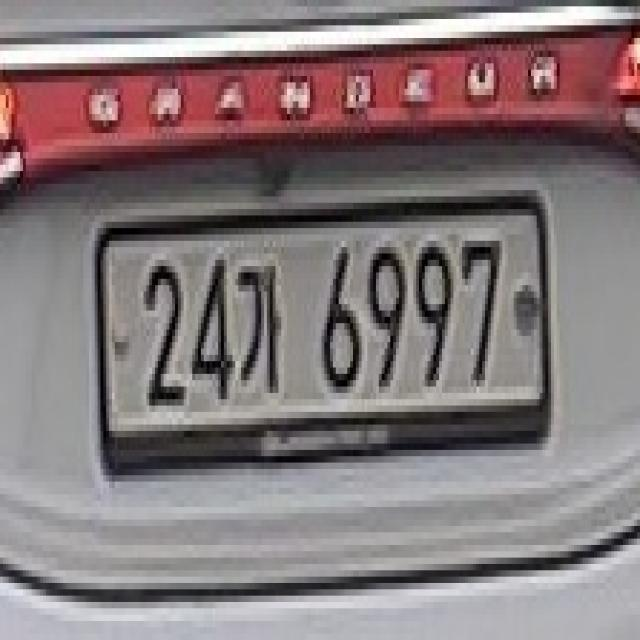2: (135, 253, 189, 412)
4: (192, 249, 237, 411)
6: (316, 237, 364, 401)
7: (462, 228, 507, 398)
9: (416, 226, 458, 396), (368, 233, 409, 399)
ga: (240, 246, 290, 414)
license_plate: (101, 194, 549, 461)
